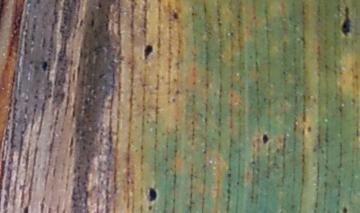tarspot: (341, 6, 351, 37), (144, 43, 153, 61), (148, 188, 157, 202), (261, 133, 270, 146), (41, 59, 49, 71), (89, 18, 97, 29), (305, 123, 313, 133), (172, 12, 180, 21), (147, 203, 155, 211), (342, 204, 349, 213), (23, 206, 30, 213), (169, 97, 177, 103), (98, 2, 103, 9)
